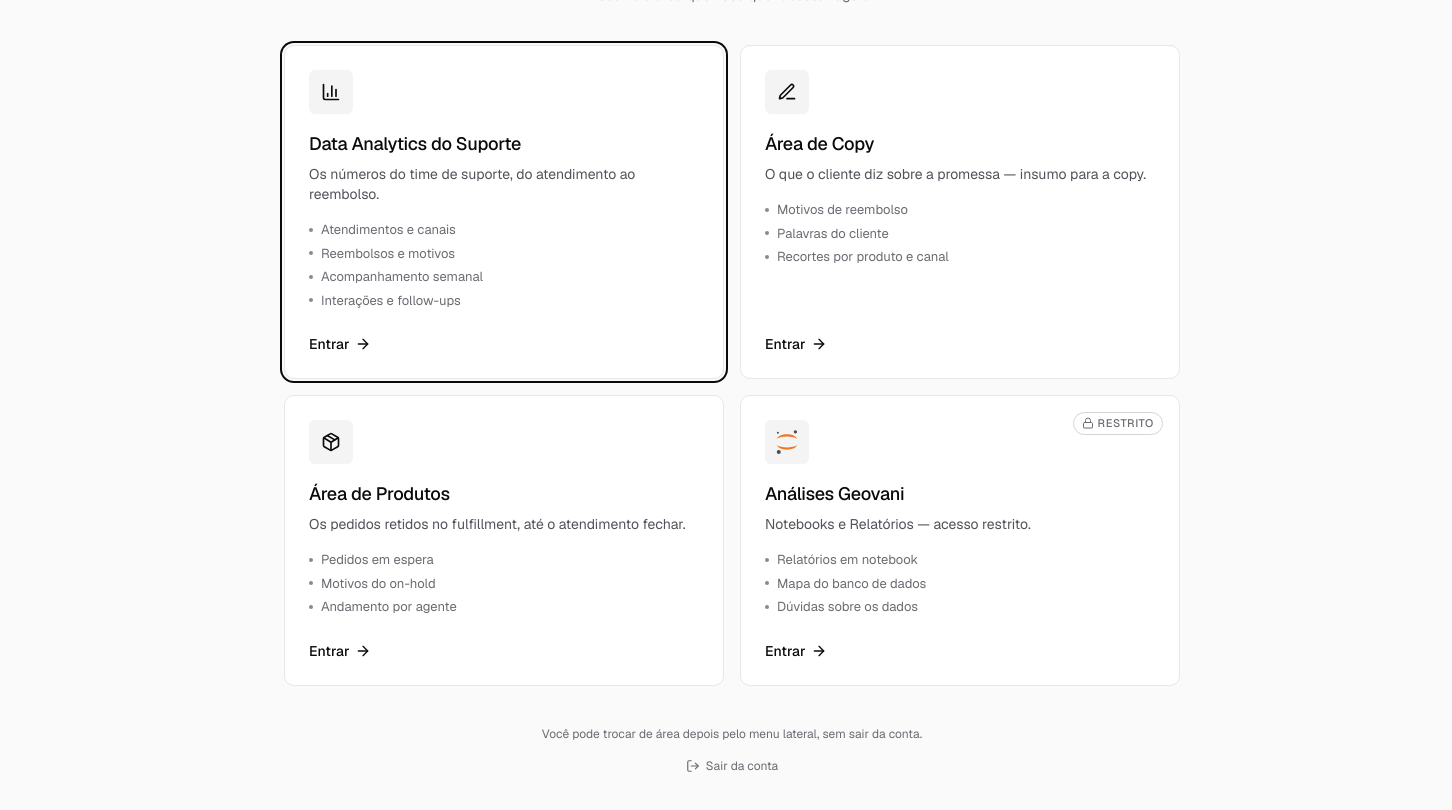
Scenario: AreaSelect — time de produtos › entra em Produtos normalmente
(page scrolled)
Click the button with aria-label "Entrar na Área de Produtos" at (331, 442), box x1=284 y1=395 x2=724 y2=686
(page scrolled)
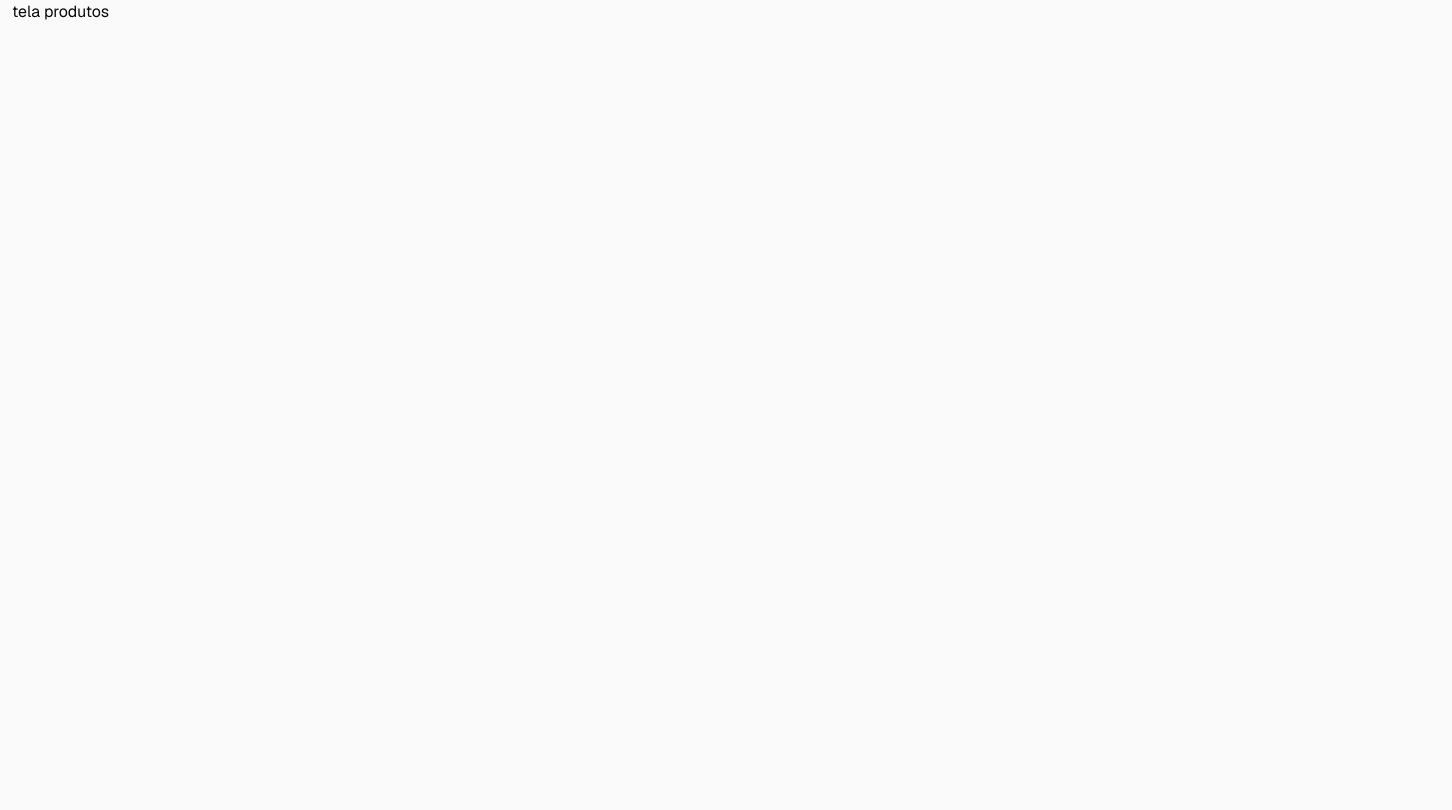
Expected: the text "tela produtos" is shown, x1=12 y1=1 x2=109 y2=22
